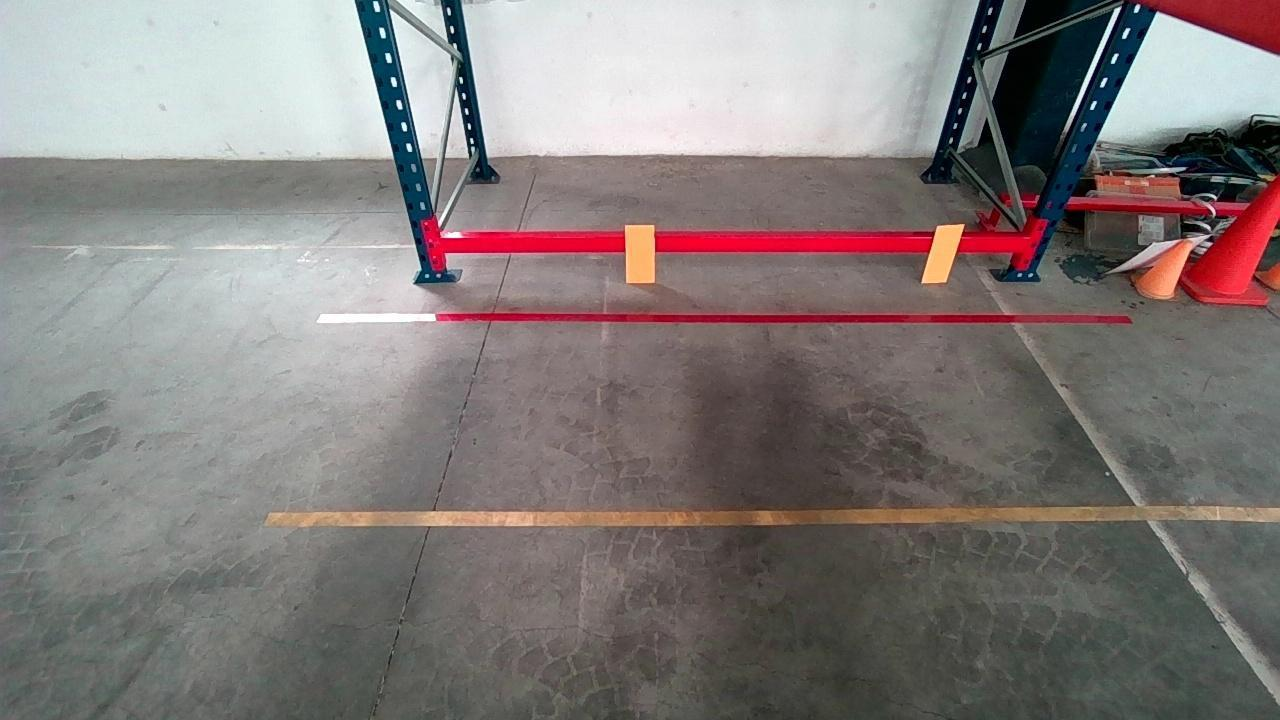h_rack: (441, 234, 1025, 253)
orange_strip: (922, 224, 967, 282), (626, 223, 656, 282)
red_line: (318, 308, 1126, 322)
yellow_line: (264, 507, 1280, 524)
